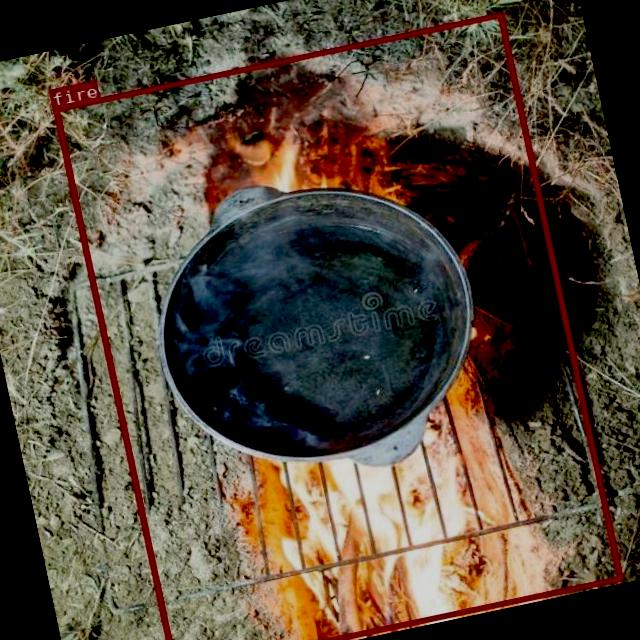fire: (51, 11, 622, 640)
